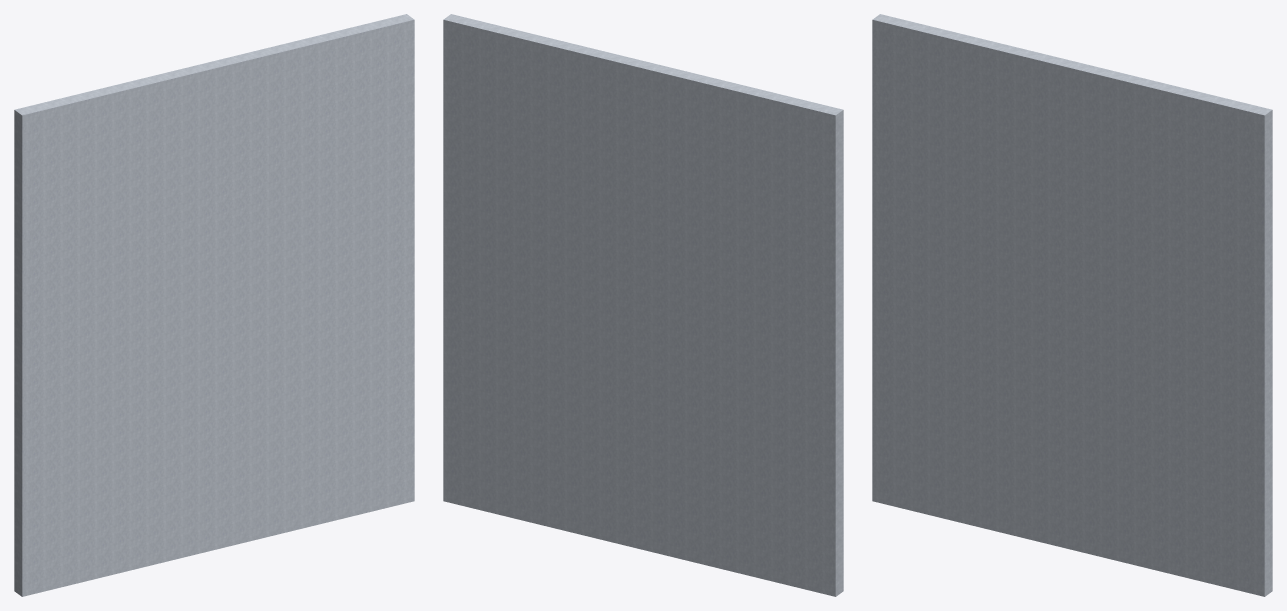
Rendered from mesa.dae.
3 views of the same model, side by side, from view 1: azimuth 30°, elevation 25°; view 2: azimuth 150°, elevation 25°; view 3: azimuth 330°, elevation 25° (orthographic).
Visible parts, largest first — view 1: node; view 2: node; view 3: node.
Part boxes in pixels (left/top/right/bottom): node: left=14, top=14, right=414, bottom=596; node: left=443, top=14, right=843, bottom=596; node: left=872, top=14, right=1272, bottom=596.
Size of the model in its own units: 0.58 by 0.68 by 0.02.
1 material, 1 textured.
